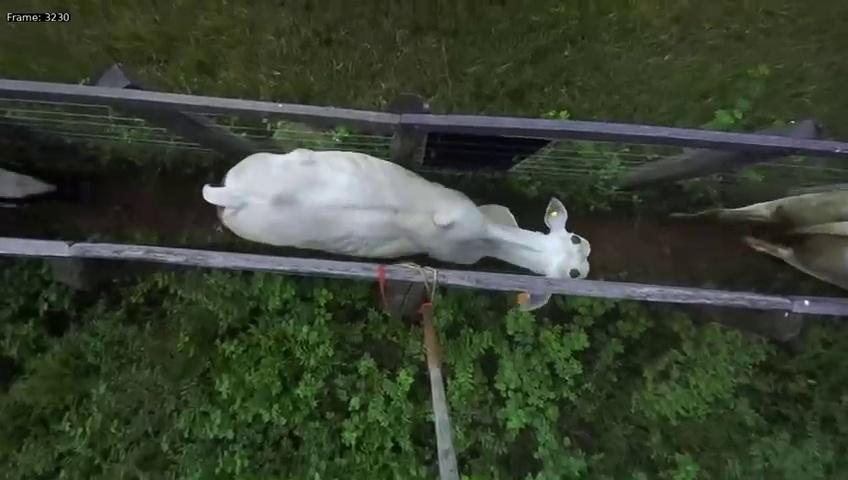cattle: (202, 137, 595, 311)
